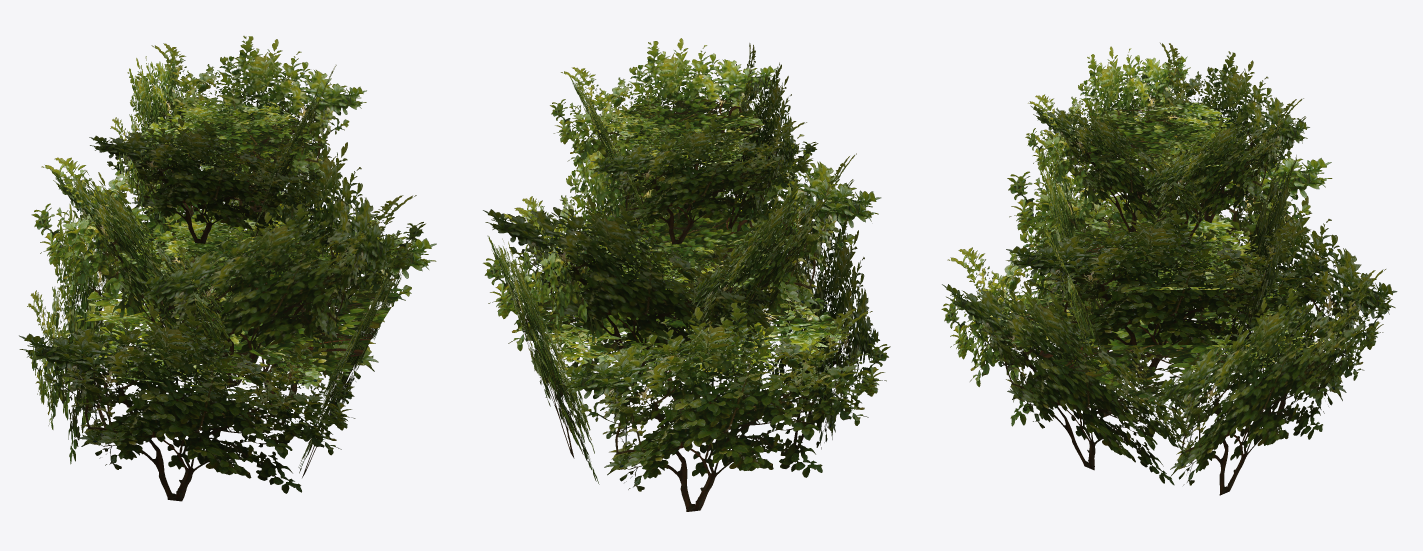
Rendered from bush.obj.
3 views of the same model, side by side, from view 1: azimuth 30°, elevation 25°; view 2: azimuth 150°, elevation 25°; view 3: azimuth 270°, elevation 25° (orthographic). The views are drawn at different scales.
Parts seen in each view (by area): view 1: Plane02; view 2: Plane02; view 3: Plane02.
Boxes of the visible parts, bbox=[...] form: Plane02: bbox=[19, 36, 436, 501]; Plane02: bbox=[483, 38, 890, 511]; Plane02: bbox=[941, 43, 1397, 495].
Bounding box in the file's own units: 29.86 × 25.7 × 29.86.
1 material, 1 textured.
